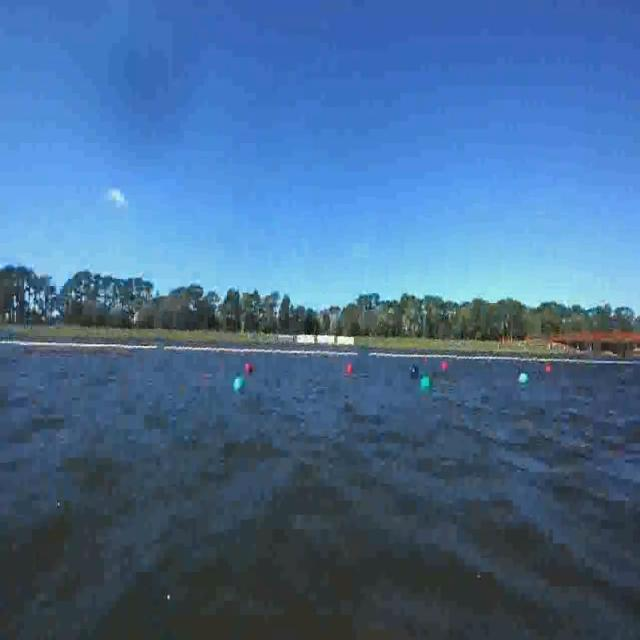black-buoy: (408, 362, 419, 378)
green-buoy: (420, 376, 432, 392), (235, 377, 246, 393), (520, 373, 529, 386)
red-buoy: (346, 360, 354, 373), (246, 362, 254, 372), (442, 361, 450, 370), (544, 364, 551, 372)
